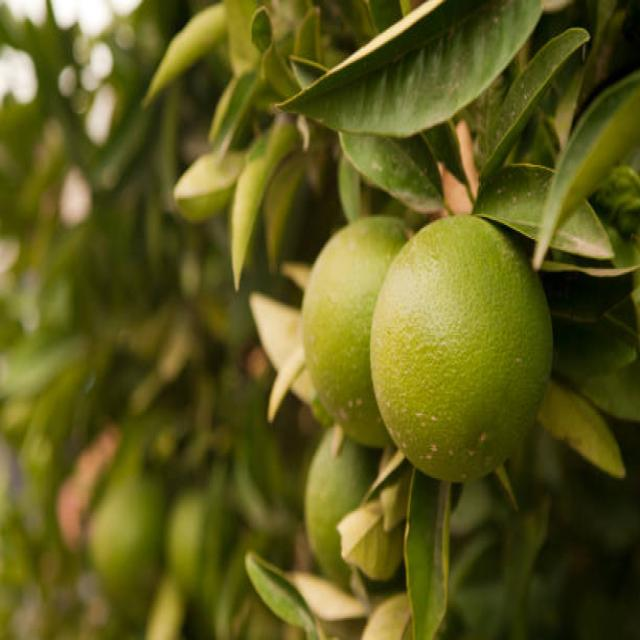Unripe: (368, 210, 553, 485)
